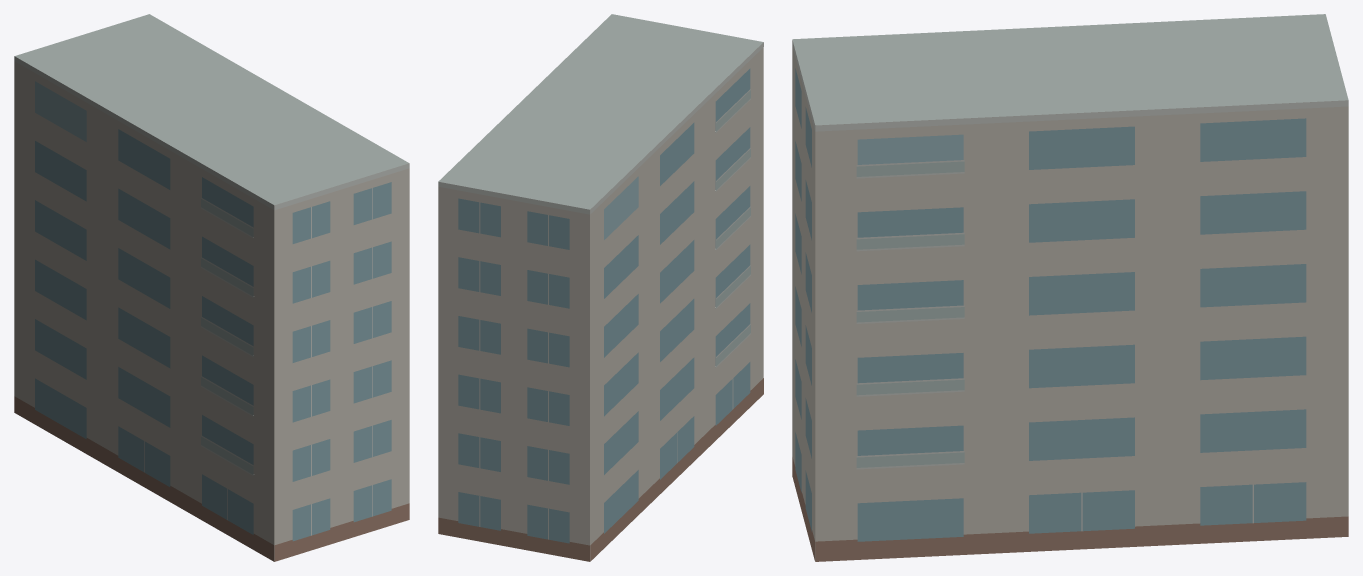
Rendered from survey-upis-32883392.glb.
3 views of the same model, side by side, from view 1: azimuth 30°, elevation 25°; view 2: azimuth 150°, elevation 25°; view 3: azimuth 270°, elevation 25° (orthographic). The views are drawn at different scales.
Parts seen in each view (by area): view 1: survey-upis-32883392.tmp; view 2: survey-upis-32883392.tmp; view 3: survey-upis-32883392.tmp.
Boxes of the visible parts, x1=… form: survey-upis-32883392.tmp: x1=14, y1=14, x2=409, y2=561; survey-upis-32883392.tmp: x1=438, y1=14, x2=763, y2=561; survey-upis-32883392.tmp: x1=792, y1=14, x2=1348, y2=561.
Size of the model in its own units: 9.48 by 17.3 by 20.
